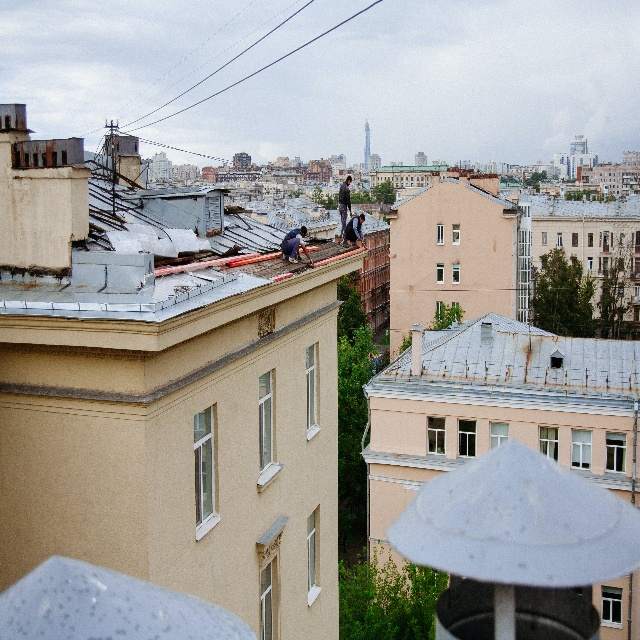Guantes: (309, 257, 314, 268), (297, 255, 303, 261), (363, 244, 367, 251)
